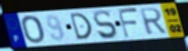9: (46, 14, 66, 42)
D: (69, 12, 94, 42)
F: (116, 7, 140, 39)
O: (21, 15, 46, 45)
R: (138, 7, 169, 37)
S: (92, 9, 119, 40)
